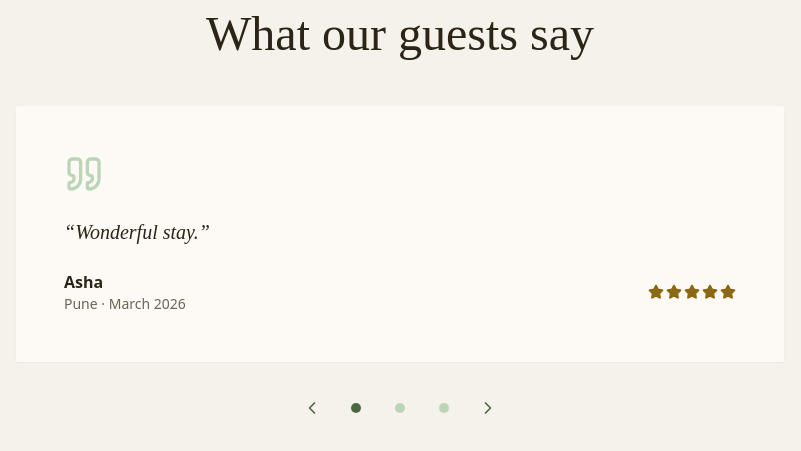
Test: testimonial carousel › steps forward and back, which hunting for the right dot is not
Click the button named "Next review". click: (488, 408)
box: [466,386,510,430]
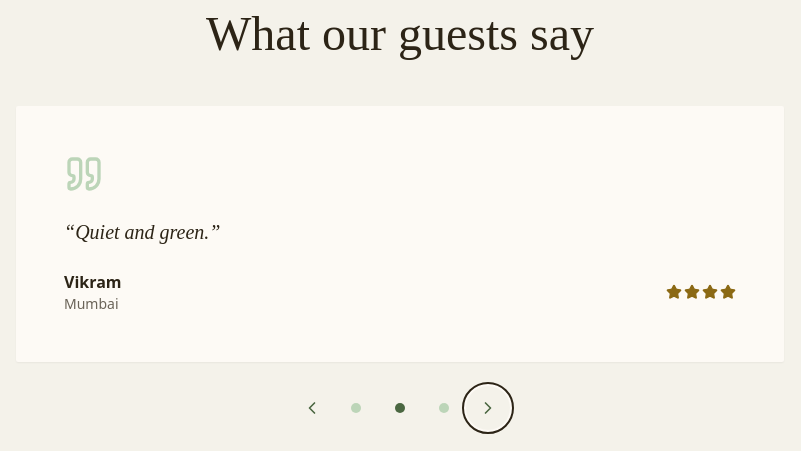
Check: the text "“Quiet and green.”" is shown, box [64,221,220,243]
Click the button named "Previous review". click: (312, 408)
box: [290,386,334,430]
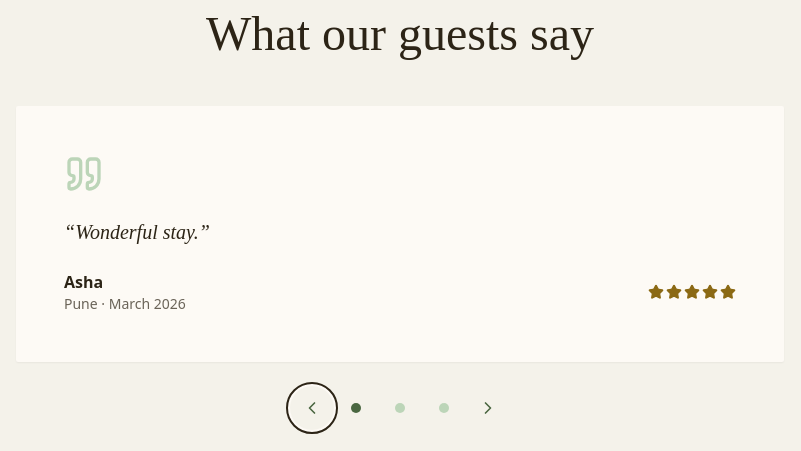
Check: the text "“Wonderful stay.”" is shown, box [64,221,210,243]
